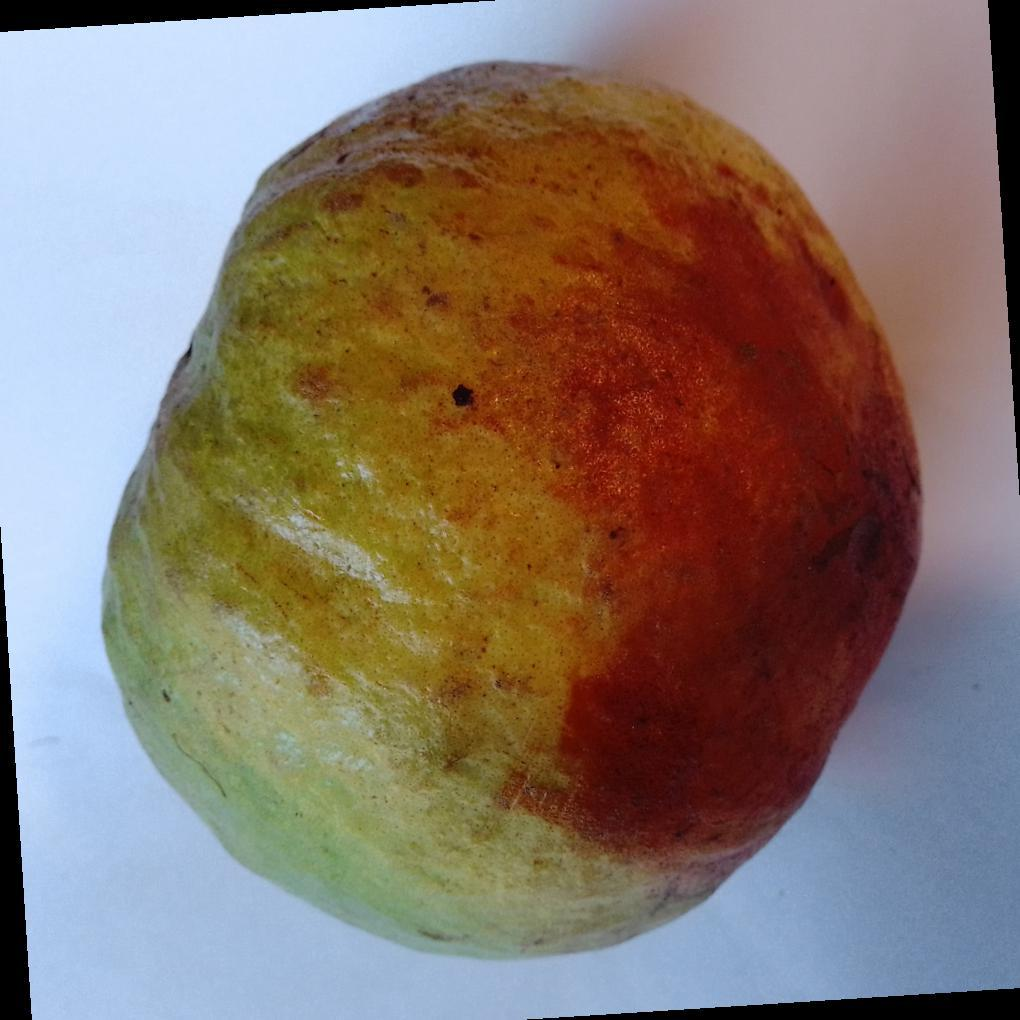FreshOrange: (98, 60, 926, 964)
